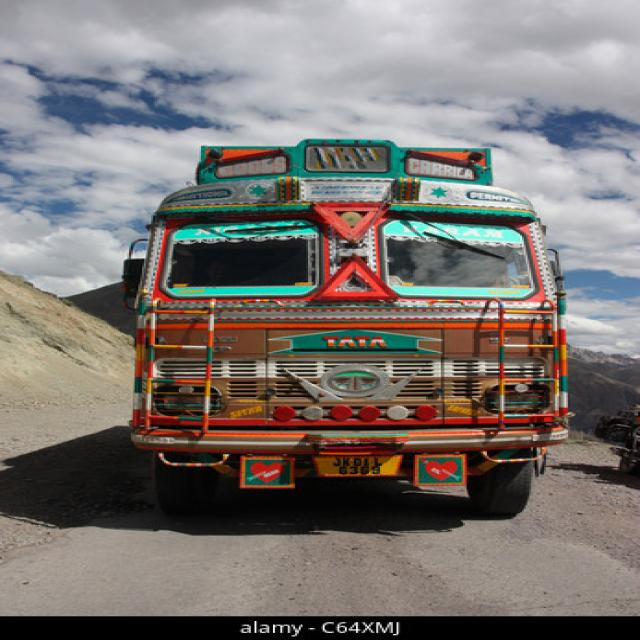truck: (125, 137, 568, 520)
